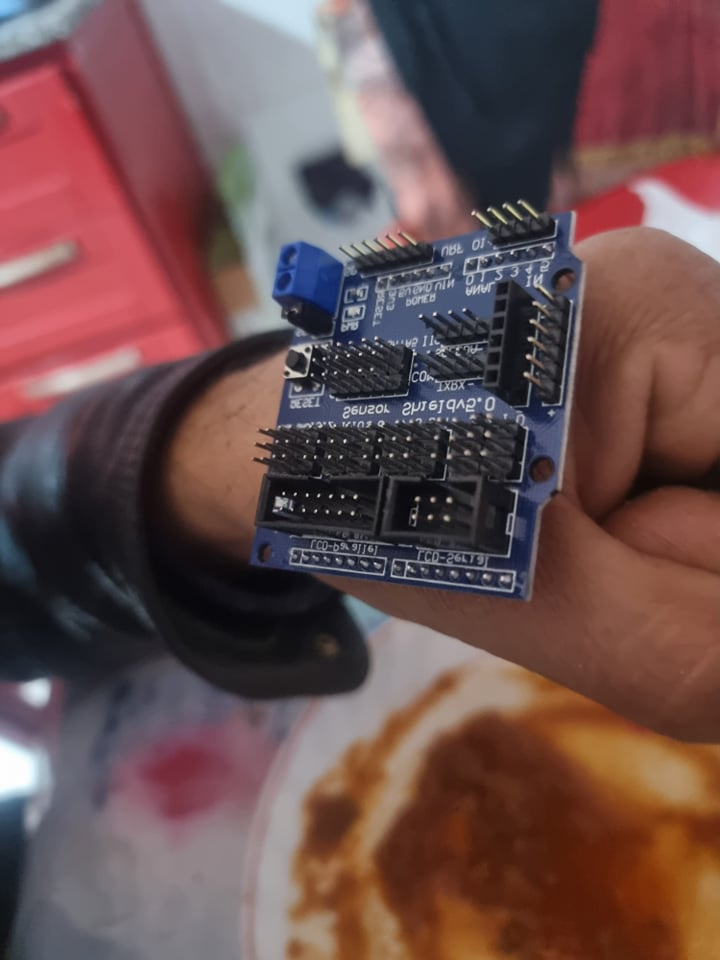5V EXPANSION: (246, 201, 590, 608)
